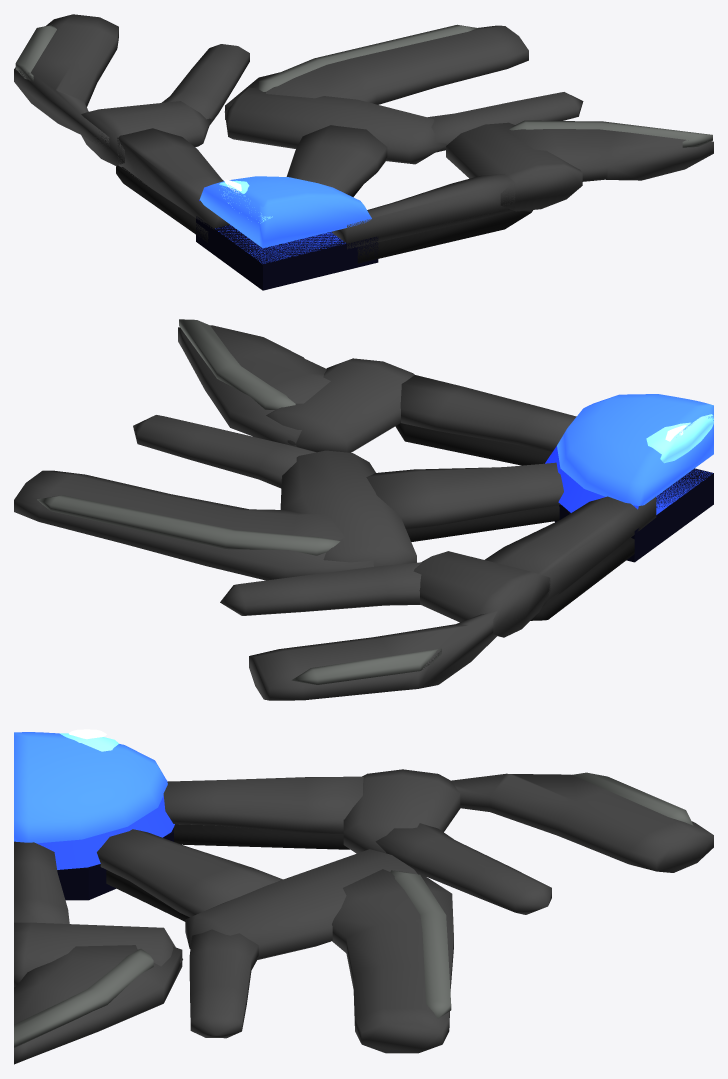
Rendered from newsh-hash-159-f3.glb.
The picture shows the model from 3 angles, top to bottom: view 1: azimuth 30°, elevation 25°; view 2: azimuth 150°, elevation 25°; view 3: azimuth 270°, elevation 25°; orthographic projection. The views are drawn at different scales.
Visible parts, largest first — view 1: newsh-hash-159-f3; view 2: newsh-hash-159-f3; view 3: newsh-hash-159-f3.
Boxes of the visible parts, <box> form: newsh-hash-159-f3: <box>14,14,713,290</box>; newsh-hash-159-f3: <box>14,319,713,700</box>; newsh-hash-159-f3: <box>14,729,713,1064</box>.
Size of the model in its own units: 1.79 by 0.3254 by 2.
